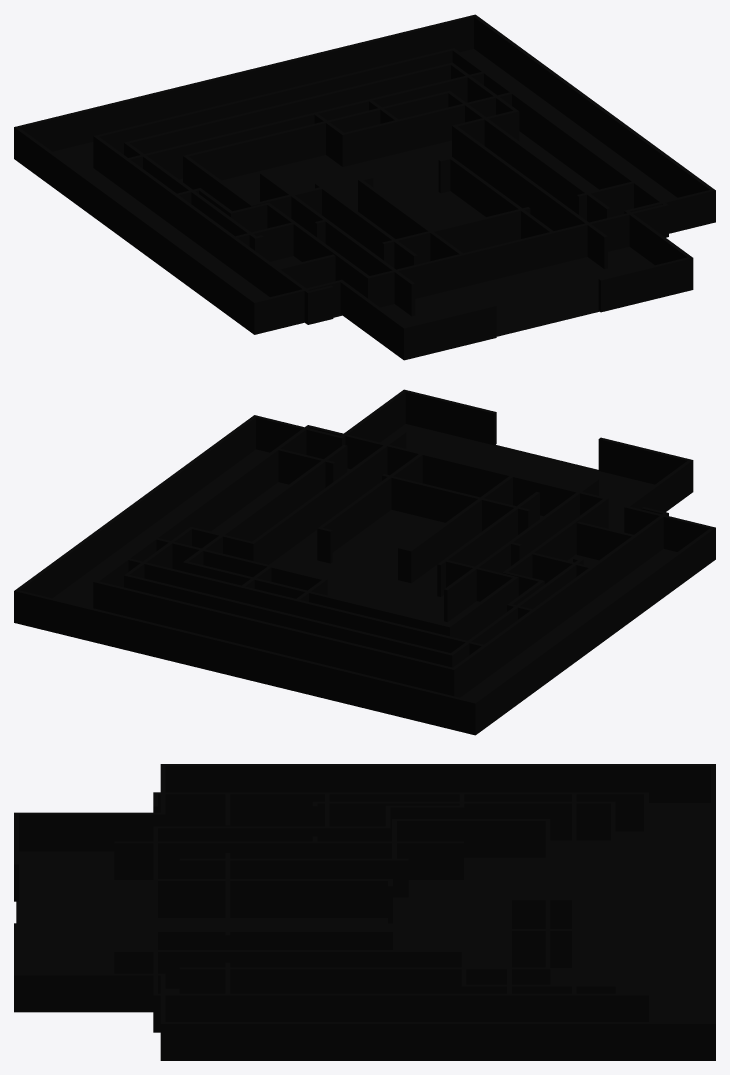
File: Tuong_Lv1_Lv10.fbx
3 renders of one model, top to bottom at view 1: azimuth 30°, elevation 25°; view 2: azimuth 150°, elevation 25°; view 3: azimuth 270°, elevation 25°, orthographic. The views are drawn at different scales.
Parts seen in each view (by area): view 1: Tuong_Lv10, Tuong_Lv5, Tuong_Lv6_Lv9, Tuong_Lv7, Tuong_Lv1, Tuong_Lv8; view 2: Tuong_Lv10, Tuong_Lv6_Lv9, Tuong_Lv5, Tuong_Lv7, Tuong_Lv1, Tuong_Lv8; view 3: Tuong_Lv10, Tuong_Lv1, Tuong_Lv5, Tuong_Lv6_Lv9, Tuong_Lv8, Tuong_Lv7.
Boxes of the visible parts, x1,y1,x2,y2 form: Tuong_Lv10: (14, 14, 715, 360); Tuong_Lv5: (124, 62, 607, 316); Tuong_Lv6_Lv9: (124, 71, 668, 324); Tuong_Lv7: (124, 92, 667, 307); Tuong_Lv1: (183, 90, 610, 269); Tuong_Lv8: (125, 91, 664, 306); Tuong_Lv10: (14, 389, 715, 735); Tuong_Lv6_Lv9: (128, 425, 668, 678); Tuong_Lv5: (124, 431, 598, 667); Tuong_Lv7: (156, 425, 608, 677); Tuong_Lv1: (183, 444, 539, 640); Tuong_Lv8: (156, 427, 608, 677); Tuong_Lv10: (14, 764, 715, 1060); Tuong_Lv1: (179, 819, 550, 993); Tuong_Lv5: (114, 801, 615, 993); Tuong_Lv6_Lv9: (153, 792, 576, 1032); Tuong_Lv8: (153, 792, 576, 994); Tuong_Lv7: (153, 792, 576, 1032).
Size of the model in its own units: 133 by 8.79 by 152.
